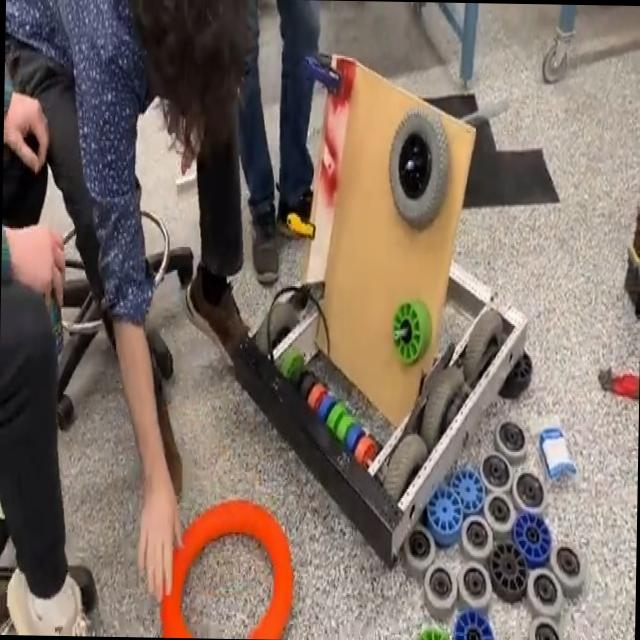note: (158, 493, 298, 638)
